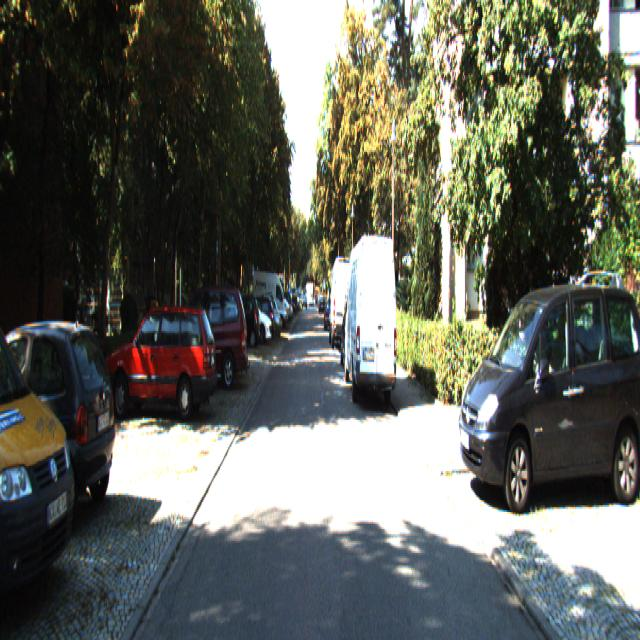Car: (456, 279, 640, 515), (0, 167, 81, 638), (0, 312, 118, 525), (105, 306, 219, 427), (164, 283, 248, 396), (232, 294, 273, 350), (222, 296, 260, 351)
DontCare: (294, 294, 324, 312)
Van: (344, 235, 398, 404), (330, 256, 356, 350), (252, 267, 290, 329)
